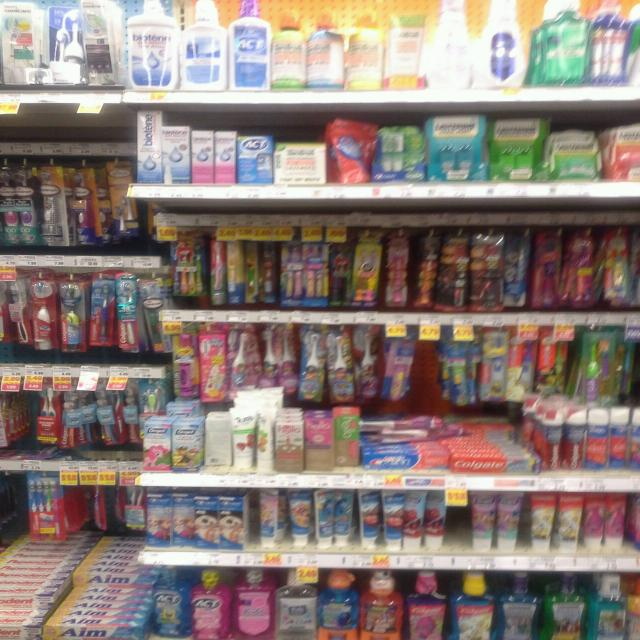unorganised: (39, 163, 105, 251), (360, 414, 471, 443), (230, 405, 277, 470), (305, 17, 343, 91), (139, 277, 172, 354), (330, 129, 370, 186), (357, 485, 381, 551), (403, 489, 427, 553), (609, 406, 629, 468), (314, 487, 334, 547), (259, 487, 278, 547), (87, 482, 111, 529), (563, 239, 576, 310)
